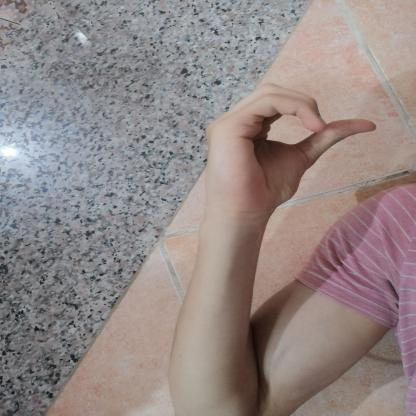WAW: (184, 74, 389, 231)
